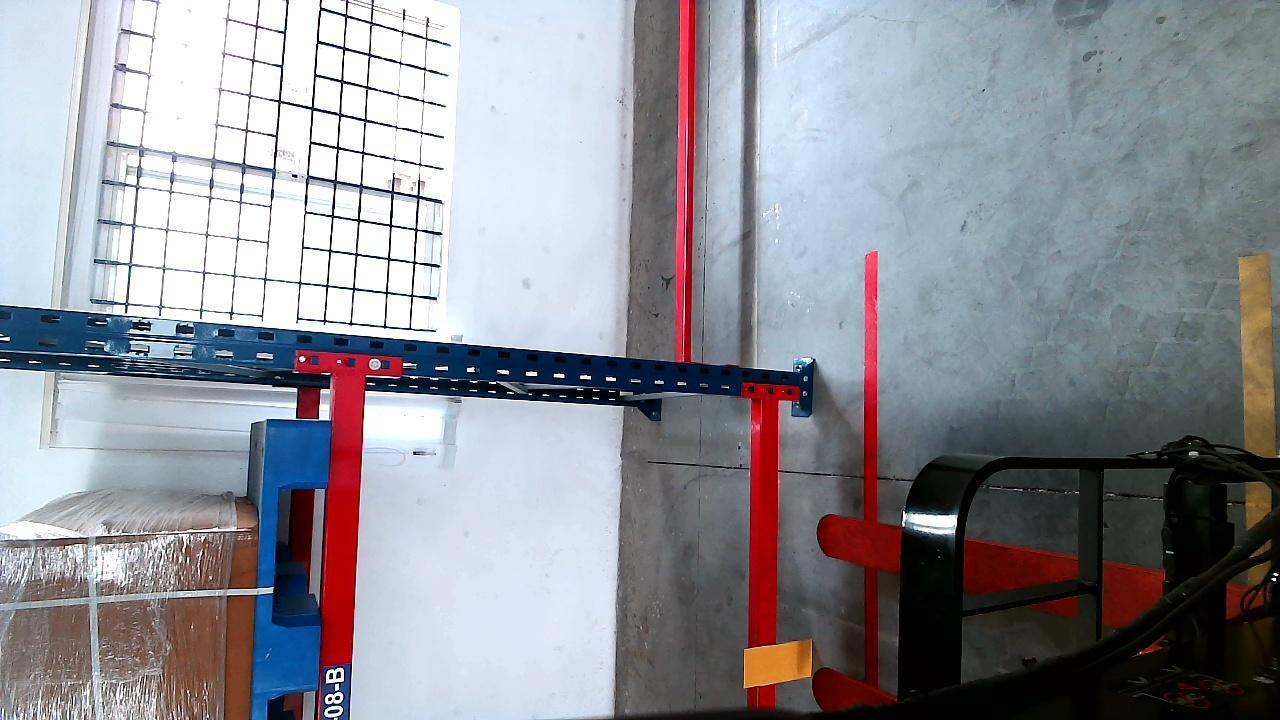h_rack: (321, 369, 369, 720), (749, 399, 781, 709)
orange_strip: (1241, 252, 1278, 474), (743, 640, 815, 687)
red_line: (860, 245, 882, 686)
small_pallet: (252, 411, 328, 720)
yellow_line: (1240, 250, 1277, 460)
